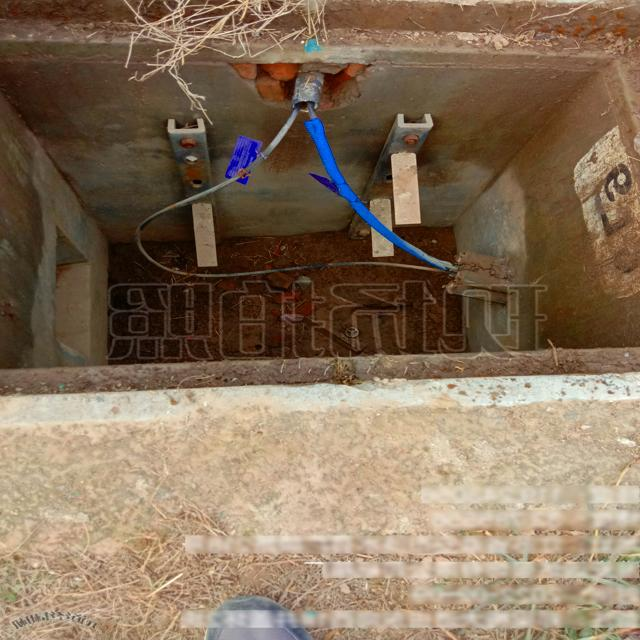lose: (0, 18, 640, 396)
